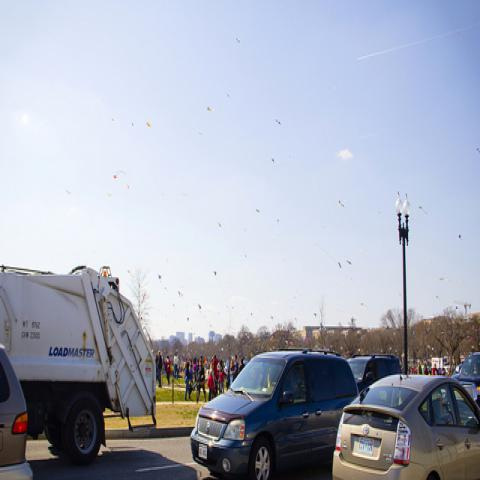car: (190, 354, 359, 474), (332, 374, 480, 478), (348, 353, 403, 394), (451, 350, 479, 409)
truck: (2, 267, 159, 467)
